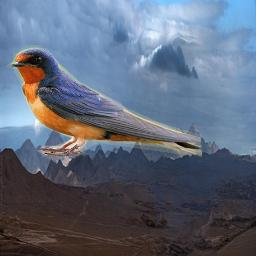Swallow: (6, 44, 202, 163)
